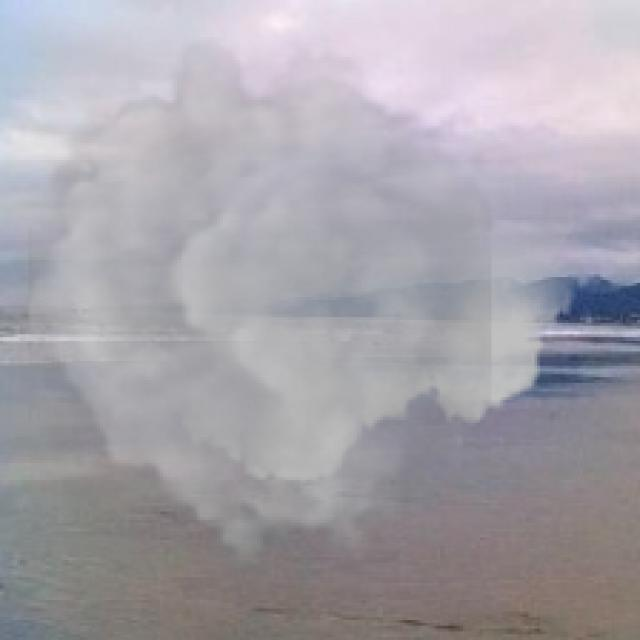smoke: (28, 37, 586, 583)
